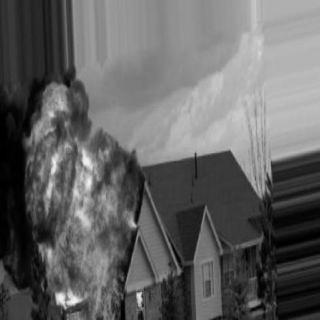Fire: (15, 76, 143, 317)
